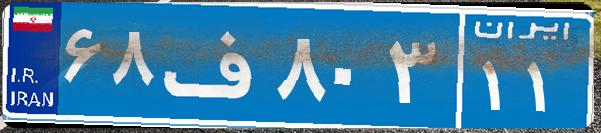0: (330, 28, 385, 110)
1: (475, 38, 525, 113), (525, 38, 570, 115)
3: (385, 28, 445, 110)
6: (57, 26, 110, 107)
8: (273, 28, 330, 110), (110, 28, 158, 105)
ف: (158, 15, 273, 115)
